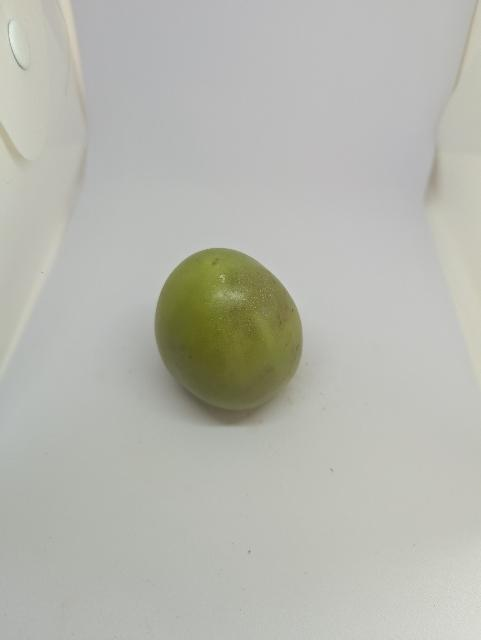green: (136, 241, 315, 431)
